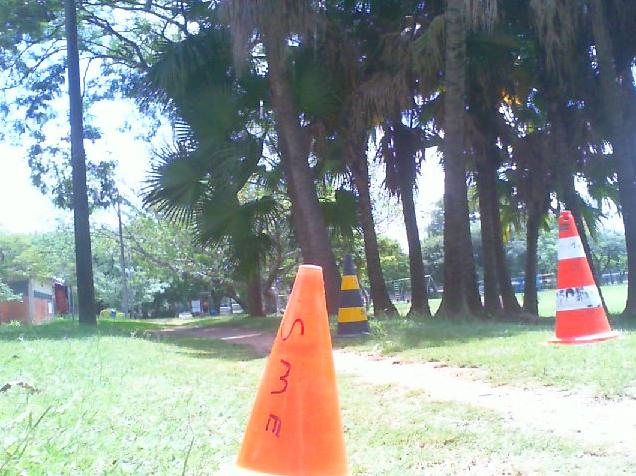0 cone: (213, 265, 361, 476), (541, 211, 623, 347), (332, 253, 374, 339)
